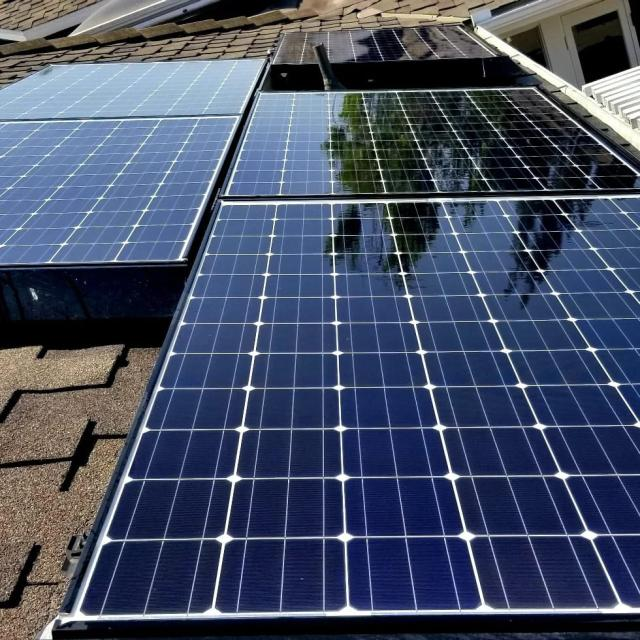clean-solar-panel: (64, 86, 640, 619), (1, 60, 264, 266)
